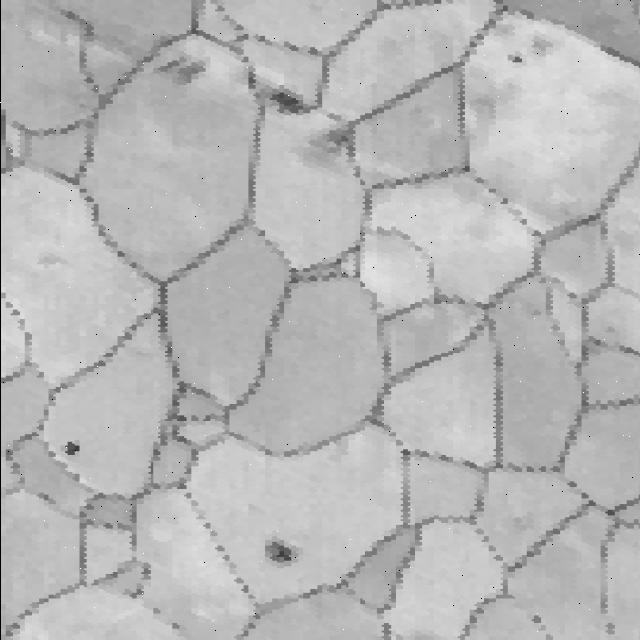good_void: (153, 54, 210, 86), (307, 124, 352, 163), (261, 86, 318, 116), (257, 534, 300, 566), (59, 427, 90, 458), (496, 50, 529, 71)
